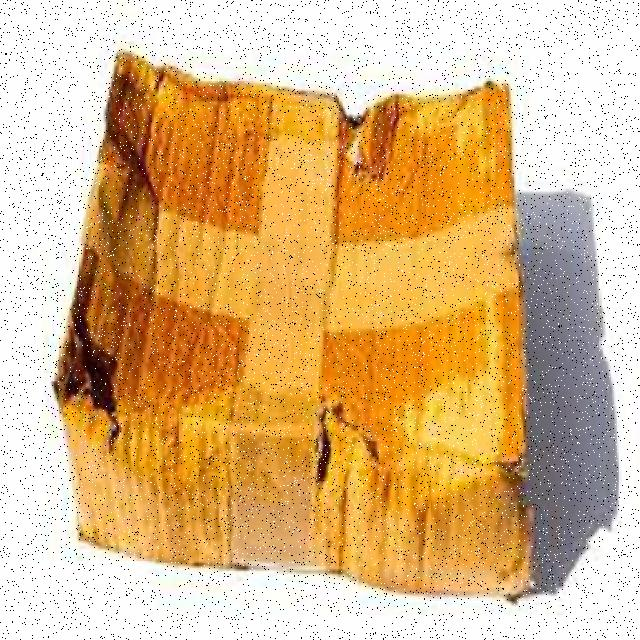defect: (49, 53, 536, 602)
